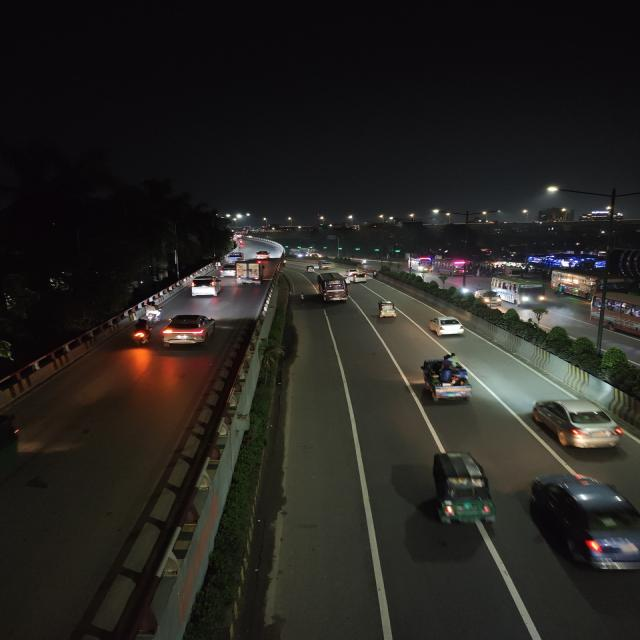bus: (587, 294, 640, 346), (552, 269, 626, 297), (492, 274, 546, 307), (313, 272, 350, 302), (406, 254, 433, 274), (435, 258, 465, 276)
car: (524, 470, 640, 581), (530, 395, 628, 455), (160, 313, 218, 347), (426, 314, 467, 340), (188, 276, 223, 298), (475, 289, 504, 306), (346, 270, 367, 284), (253, 249, 271, 260), (230, 250, 245, 260)
cng: (416, 447, 500, 533), (374, 298, 399, 322), (304, 264, 316, 274)
motorcycle: (128, 318, 155, 348), (144, 304, 163, 324)
pickup_van: (414, 355, 476, 406)
truck: (235, 262, 263, 286)
